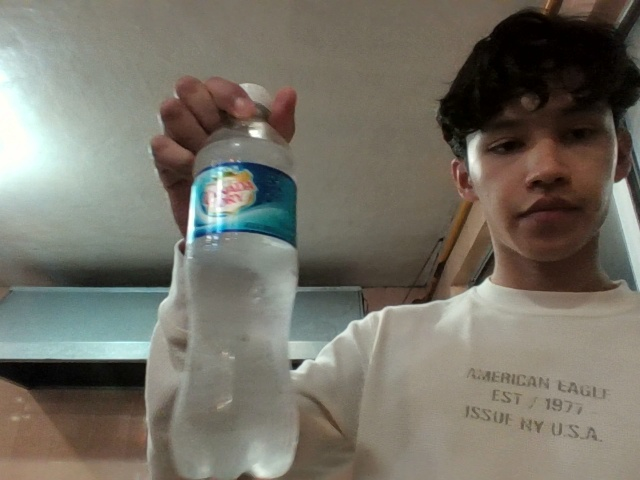botella: (151, 107, 315, 480)
